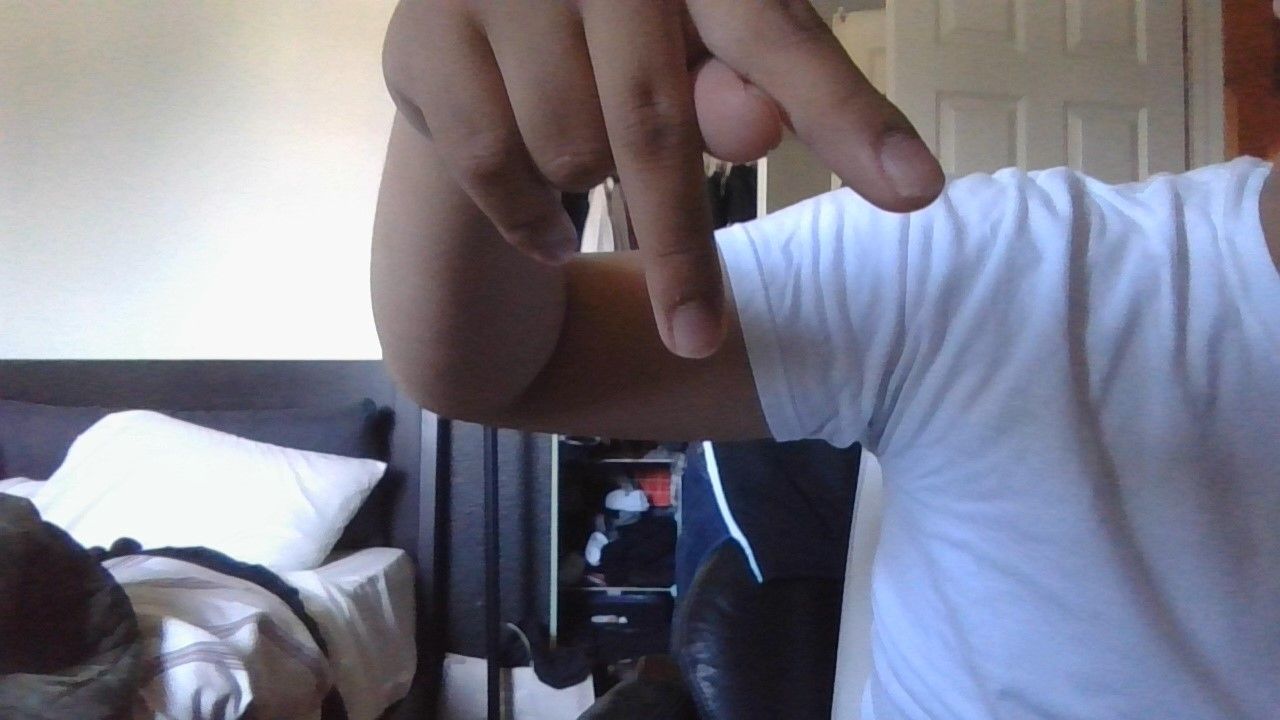p: (339, 1, 1001, 397)
